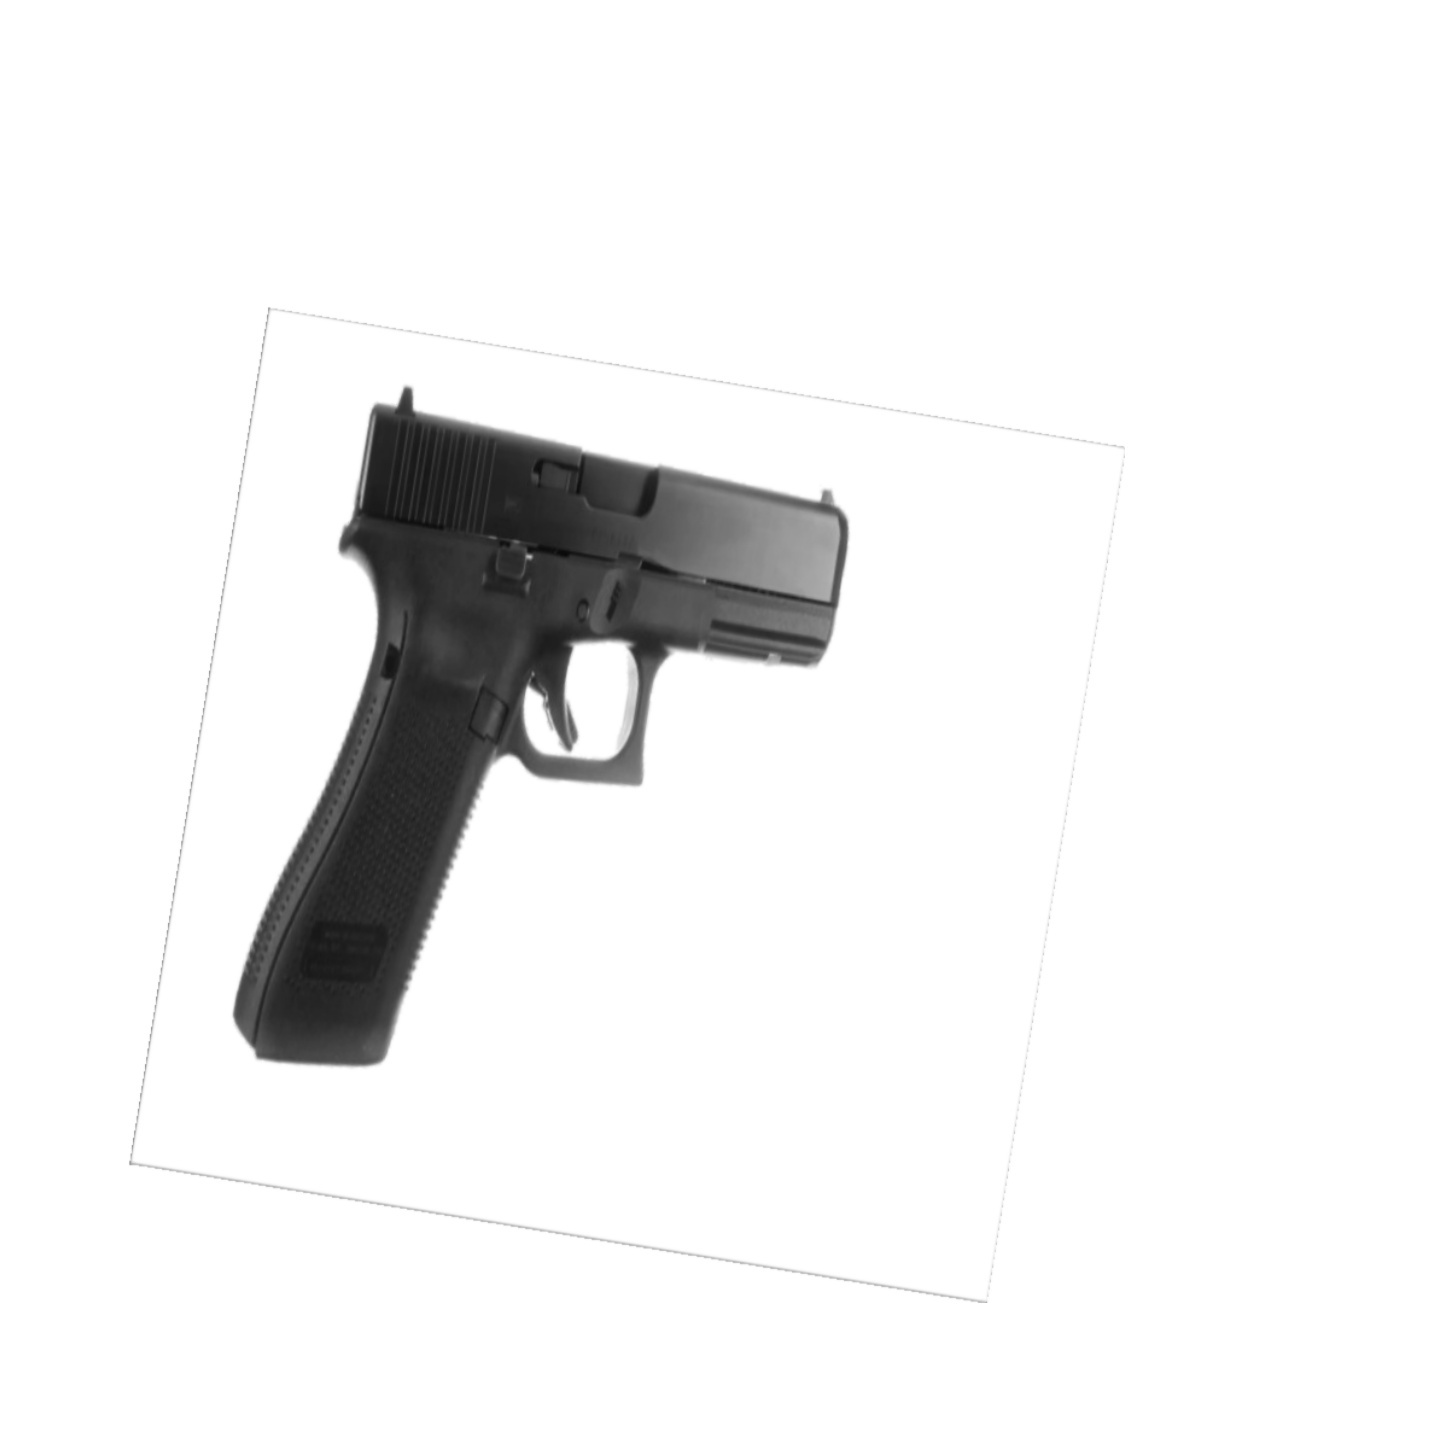gun: (217, 375, 872, 1078)
